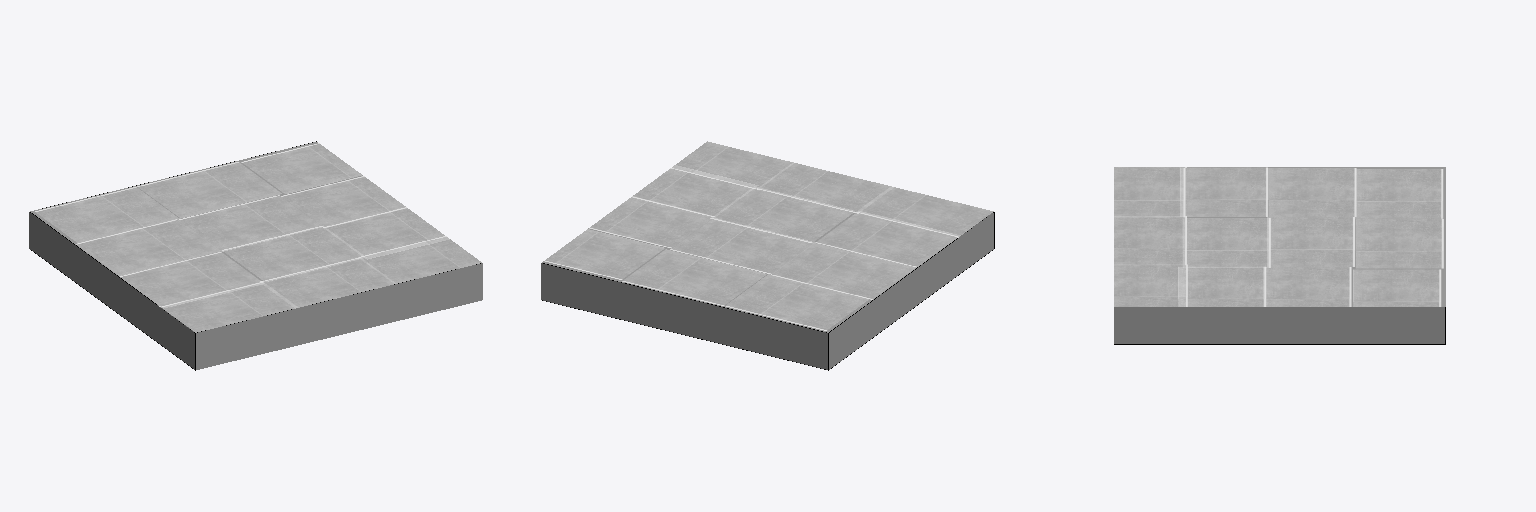
3 views of the same model, side by side, from view 1: azimuth 30°, elevation 25°; view 2: azimuth 150°, elevation 25°; view 3: azimuth 270°, elevation 25° (orthographic).
Parts seen in each view (by area): view 1: concrete_floor_Cube.013; view 2: concrete_floor_Cube.013; view 3: concrete_floor_Cube.013.
Boxes of the visible parts, x1,y1,x2,y2 form: concrete_floor_Cube.013: [29, 141, 482, 370]; concrete_floor_Cube.013: [541, 141, 994, 370]; concrete_floor_Cube.013: [1114, 167, 1445, 344].
Bounding box in the file's own units: 2 × 0.25 × 2.
1 materials, 1 textured.